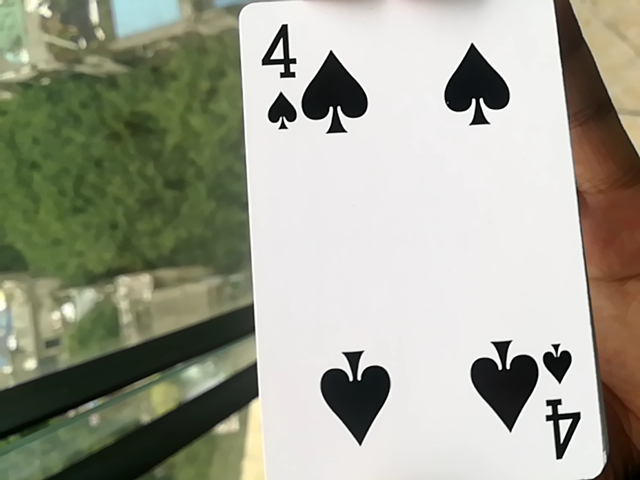ht 4: (229, 10, 619, 480)
